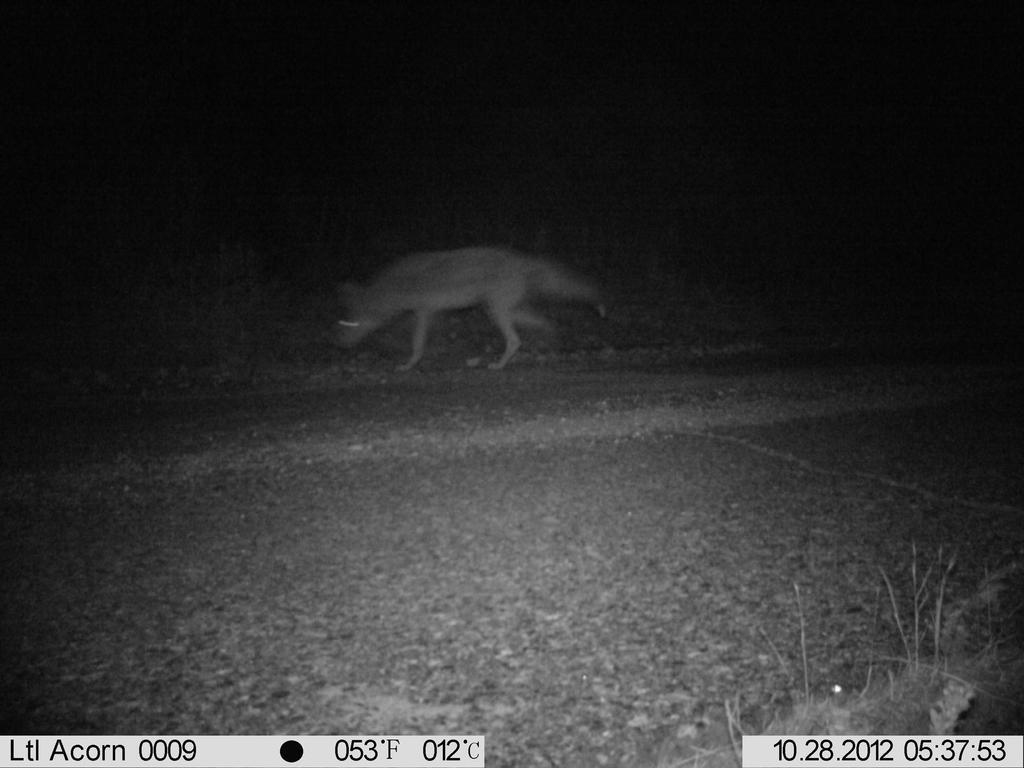coyote: (323, 240, 617, 373)
